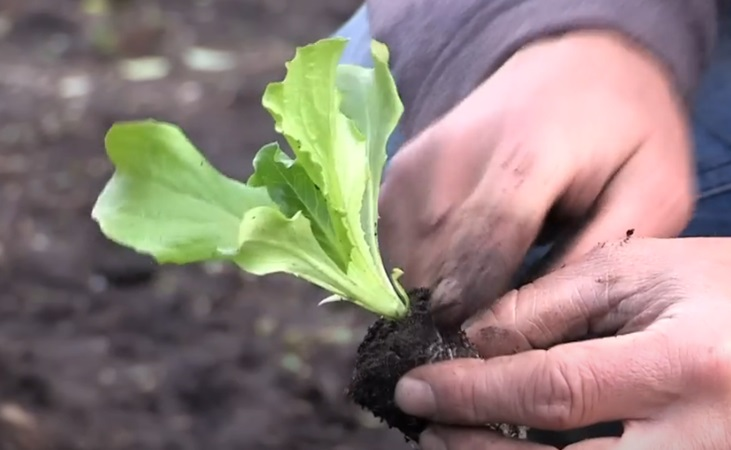lettuce: (65, 17, 450, 329)
